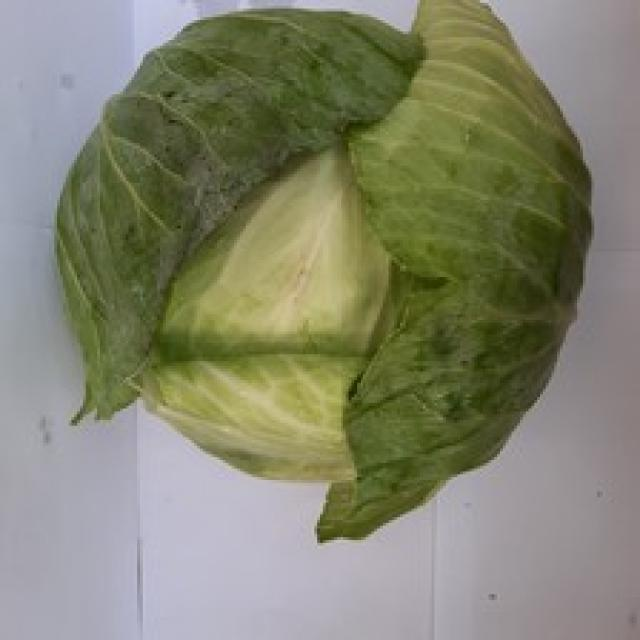Cabbage: (51, 0, 594, 543)
